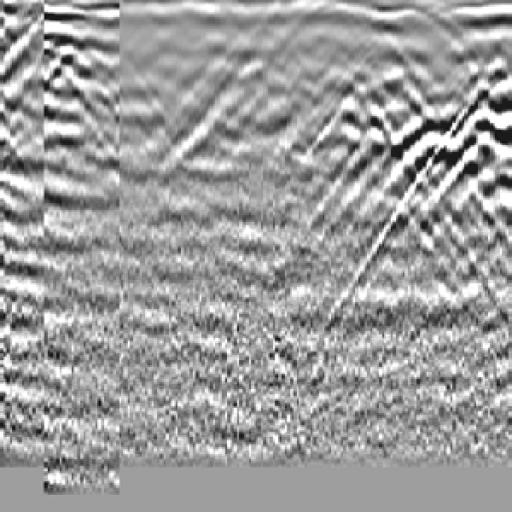non-metallic: (337, 38, 512, 286)
